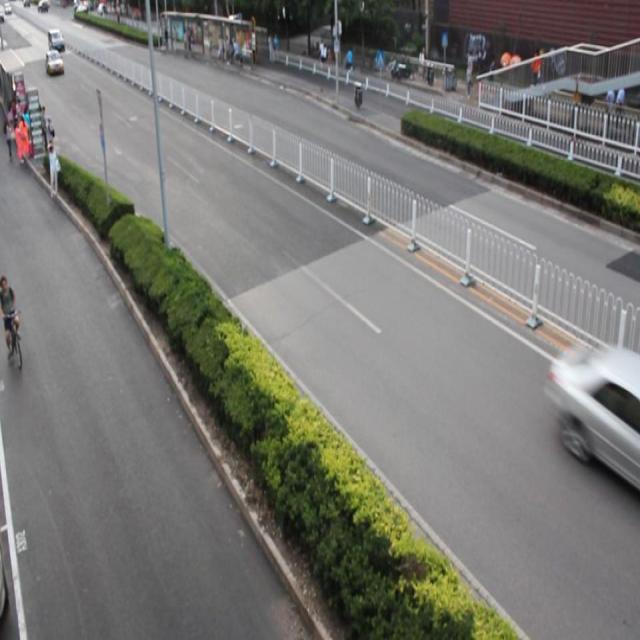car: (546, 342, 640, 484), (223, 28, 252, 64)
